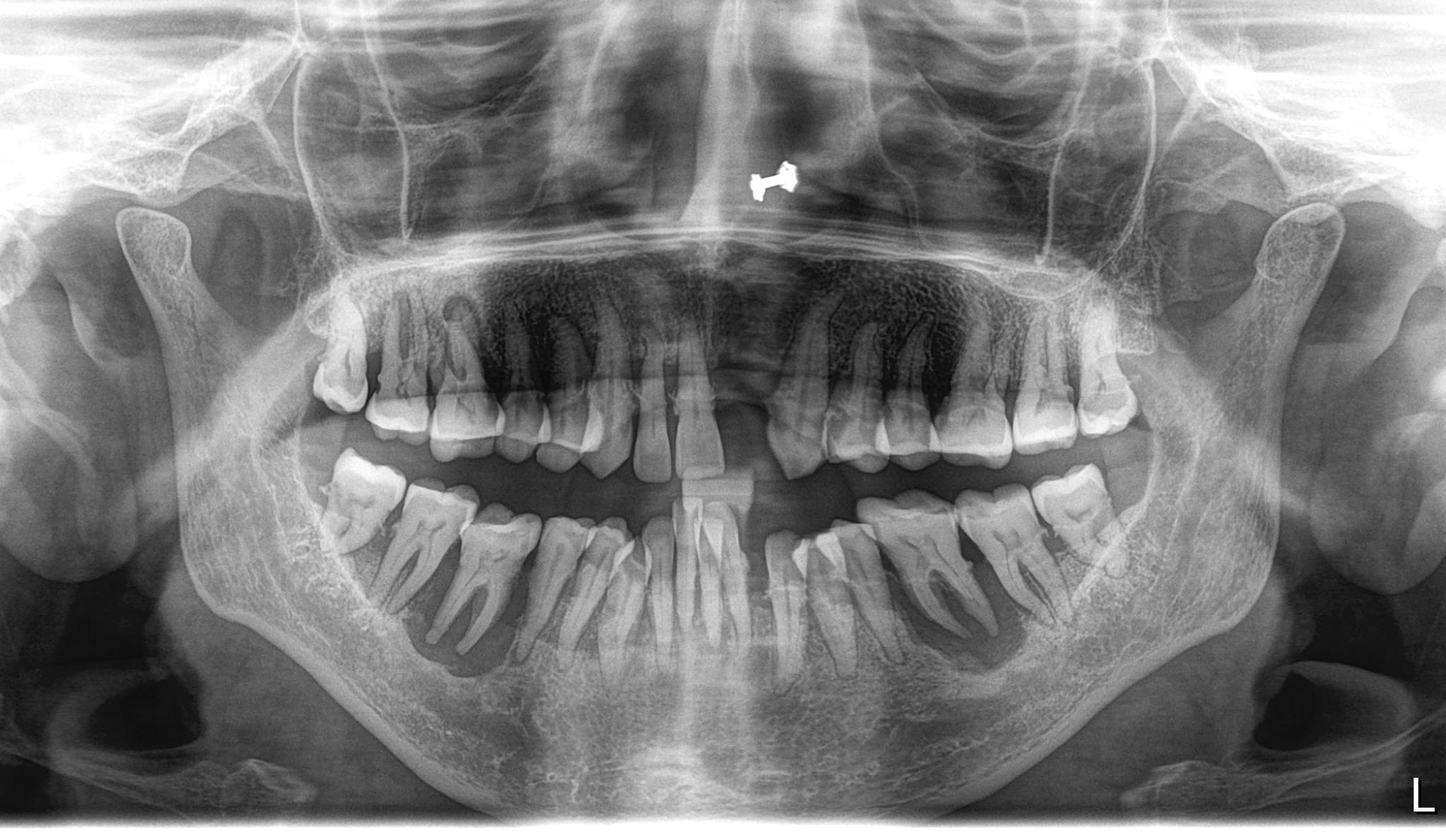Missing Tooth: (711, 346, 779, 476), (1112, 450, 1156, 513)
Periapical Lesion: (713, 263, 960, 399), (462, 288, 616, 388), (402, 563, 526, 671), (886, 566, 1016, 664)
